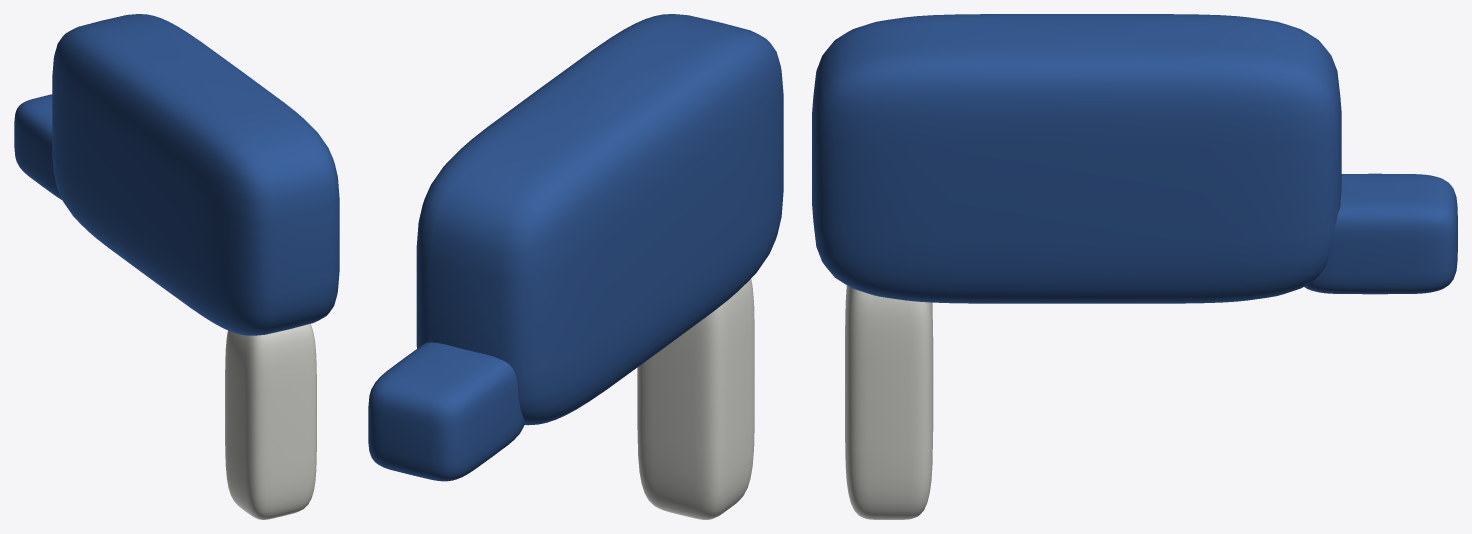
Rendered from skin_stapler.glb.
3 views of the same model, side by side, from view 1: azimuth 30°, elevation 25°; view 2: azimuth 150°, elevation 25°; view 3: azimuth 270°, elevation 25° (orthographic). The views are drawn at different scales.
Parts seen in each view (by area): view 1: Body, Trigger; view 2: Body, Trigger; view 3: Body, Trigger.
Part boxes in pixels (left/top/right/bottom): Body: left=14, top=14, right=339, bottom=335; Trigger: left=225, top=324, right=316, bottom=519; Body: left=368, top=14, right=783, bottom=481; Trigger: left=637, top=278, right=754, bottom=519; Body: left=812, top=14, right=1457, bottom=303; Trigger: left=845, top=285, right=933, bottom=519.
Bounding box in the file's own units: 0.03 × 0.095 × 0.1169.
